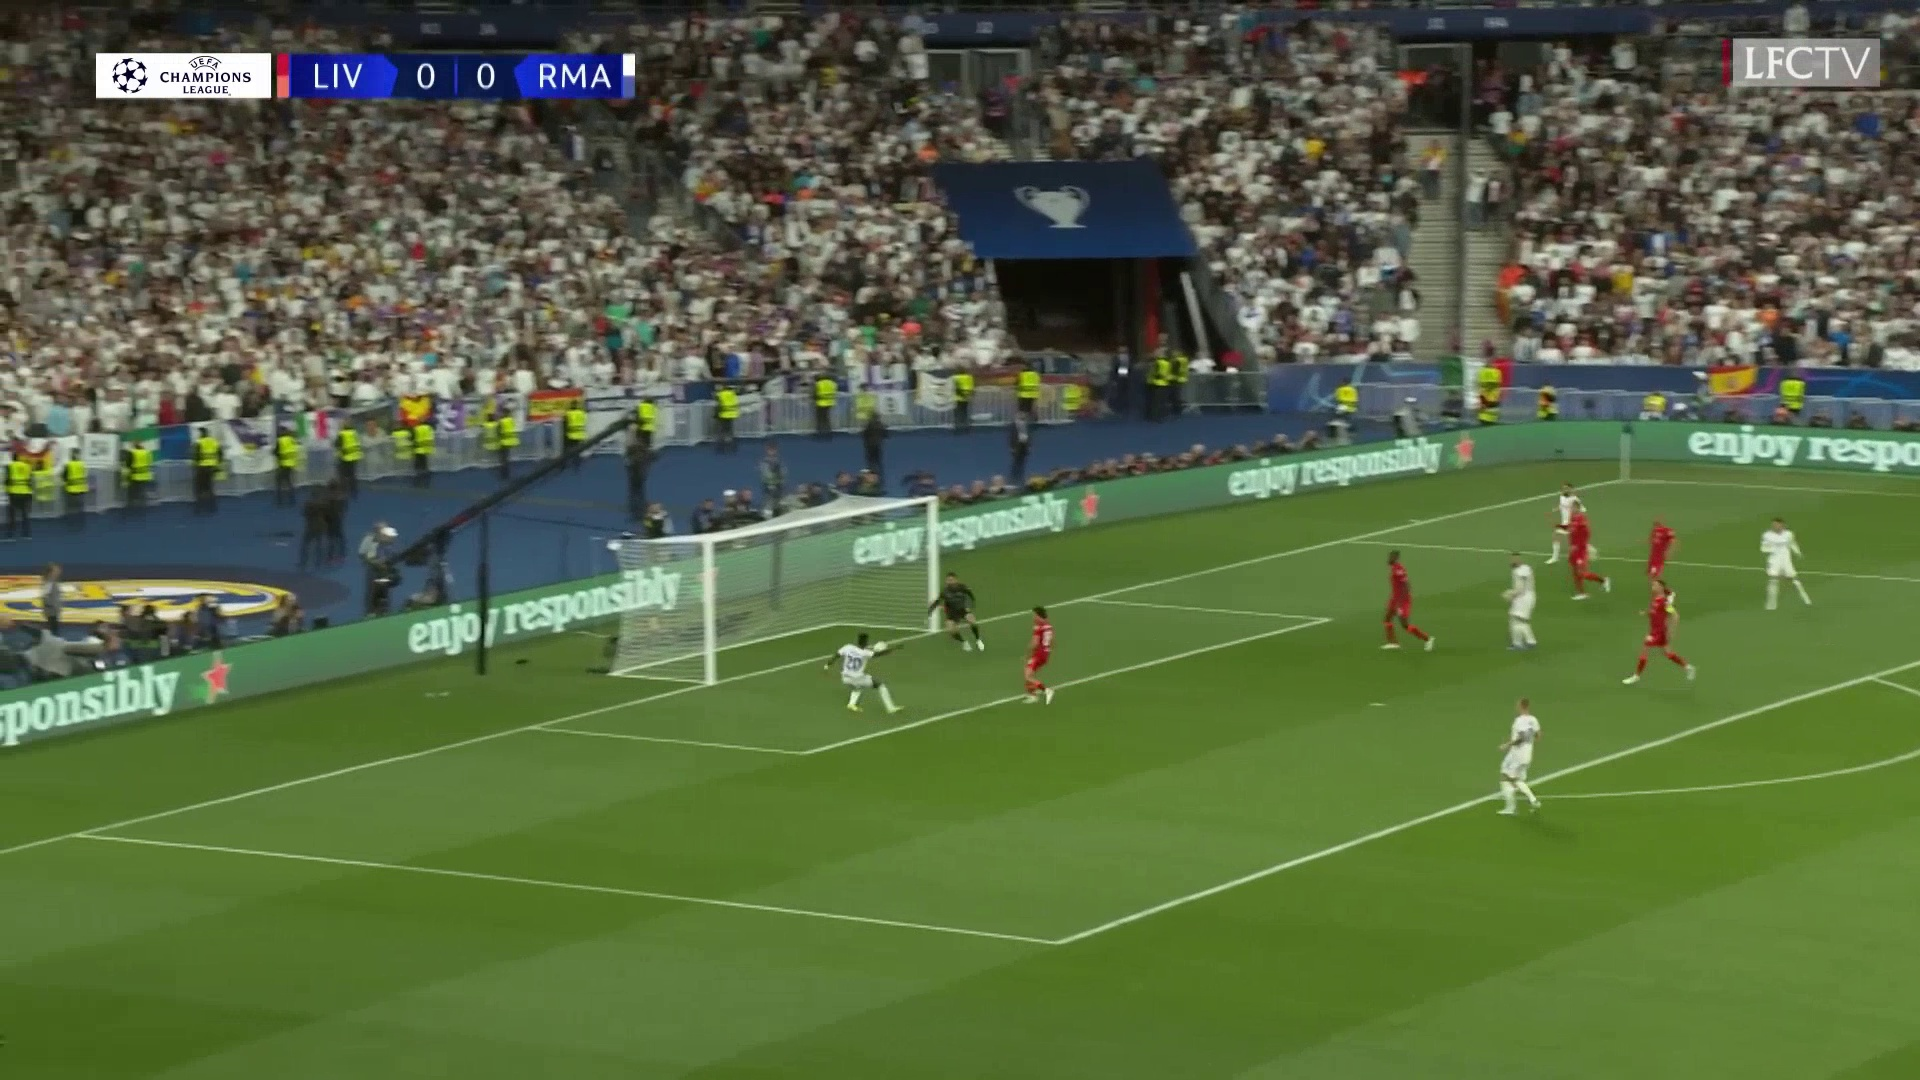ball: (877, 625, 886, 657)
player 1: (1758, 509, 1819, 612)
player 12: (927, 573, 993, 661)
player 13: (1573, 513, 1610, 603)
player 14: (1015, 601, 1065, 709)
player 15: (1640, 509, 1681, 580)
player 16: (1373, 539, 1439, 657)
player 17: (1623, 586, 1707, 689)
player 2: (1551, 474, 1571, 578)
player 3: (823, 631, 896, 717)
player 4: (1502, 552, 1549, 649)
player 5: (1502, 689, 1549, 825)
